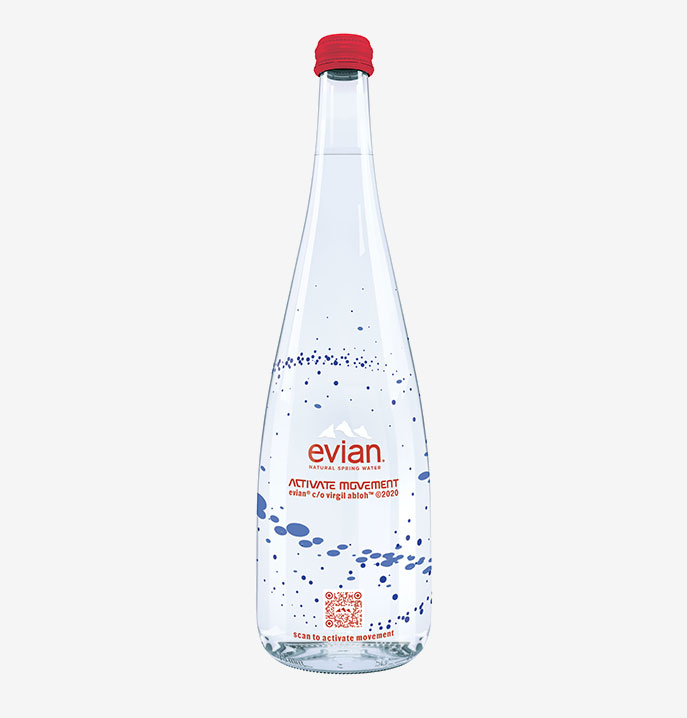glass_bottle: (253, 32, 436, 676)
